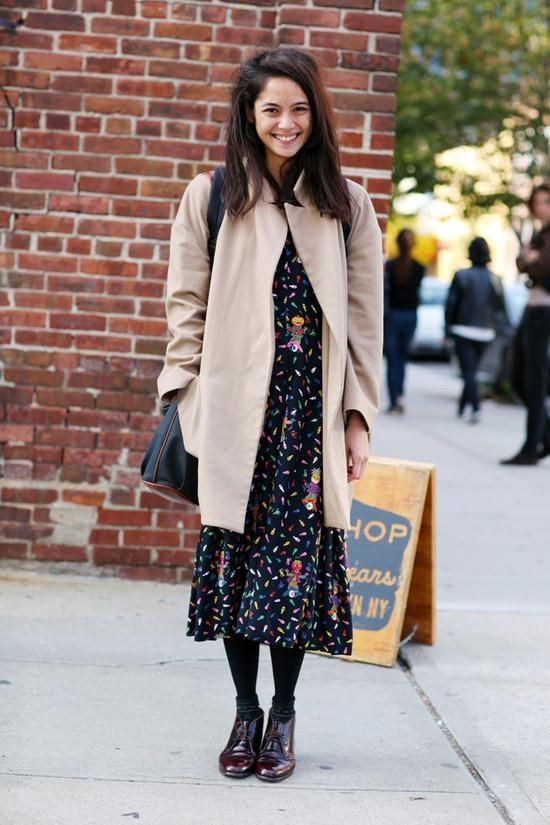dress: (186, 185, 353, 653)
sweater: (158, 150, 386, 534)
